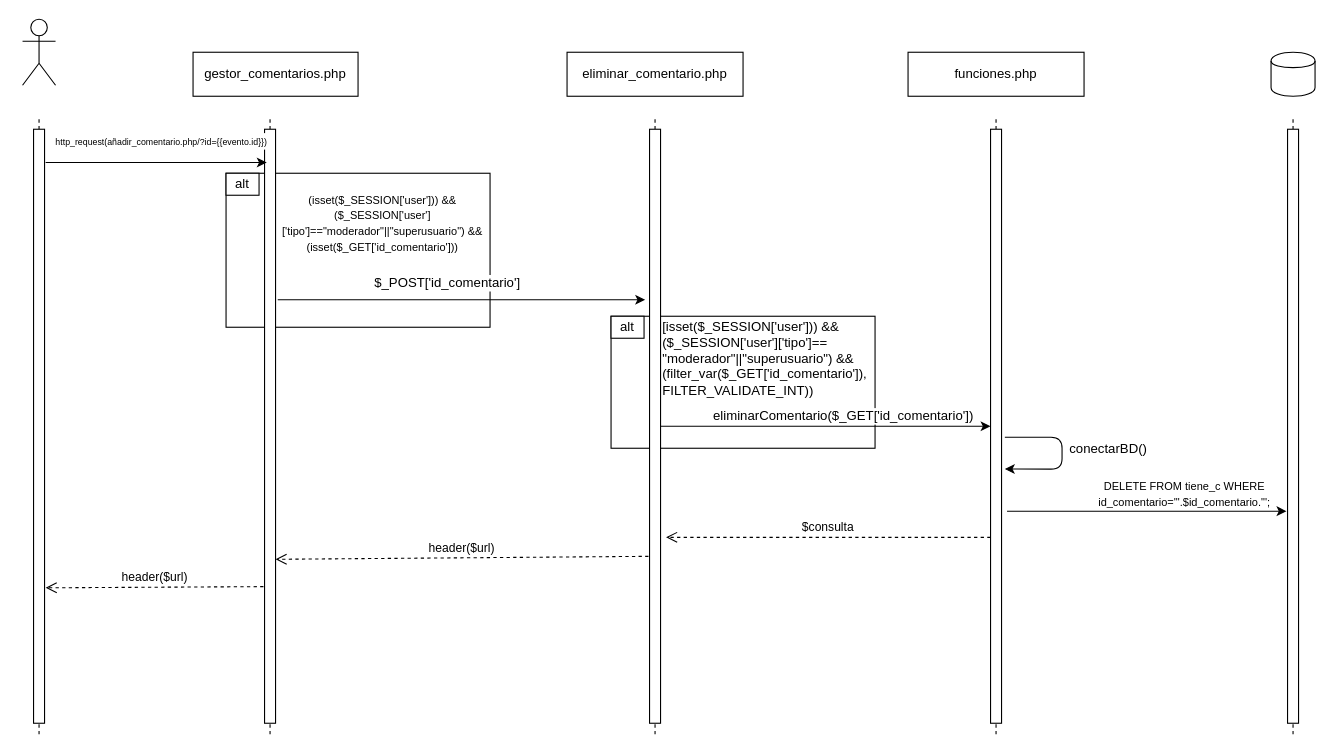
The diagram is 1334 pixels wide and 755 high, and some of its shapes have lost their labels. Each missing label, with the centre of its shape:
bd: point 1292,73
Cliente: point 38,51
